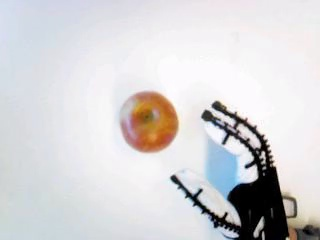apple: (120, 90, 177, 153)
hand: (172, 101, 290, 238)
